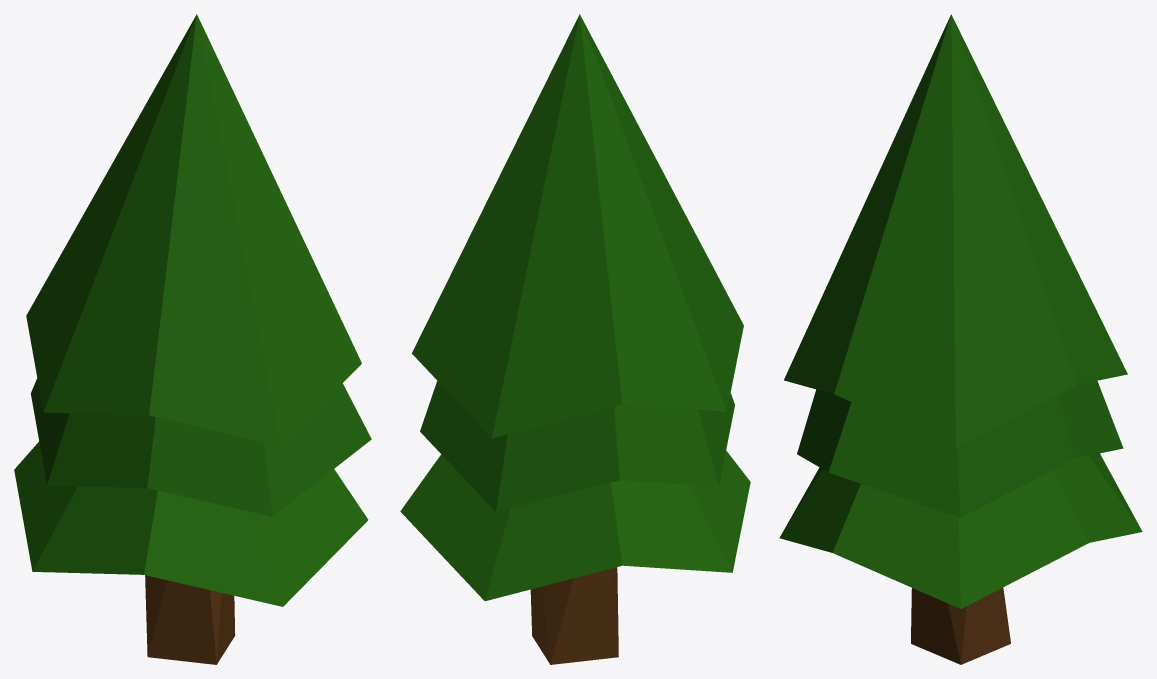
Rendered from super_optimized_tree.glb.
The picture shows the model from 3 angles, left to right: view 1: azimuth 30°, elevation 25°; view 2: azimuth 150°, elevation 25°; view 3: azimuth 270°, elevation 25°; orthographic projection.
Parts seen in each view (by area): view 1: Cylinder; view 2: Cylinder; view 3: Cylinder.
Boxes of the visible parts, x1,y1,x2,y2 form: Cylinder: (14,14,371,664); Cylinder: (400,14,750,664); Cylinder: (779,14,1142,664).
Bounding box in the file's own units: 2 × 3.82 × 2.
2 materials, 2 textured.
